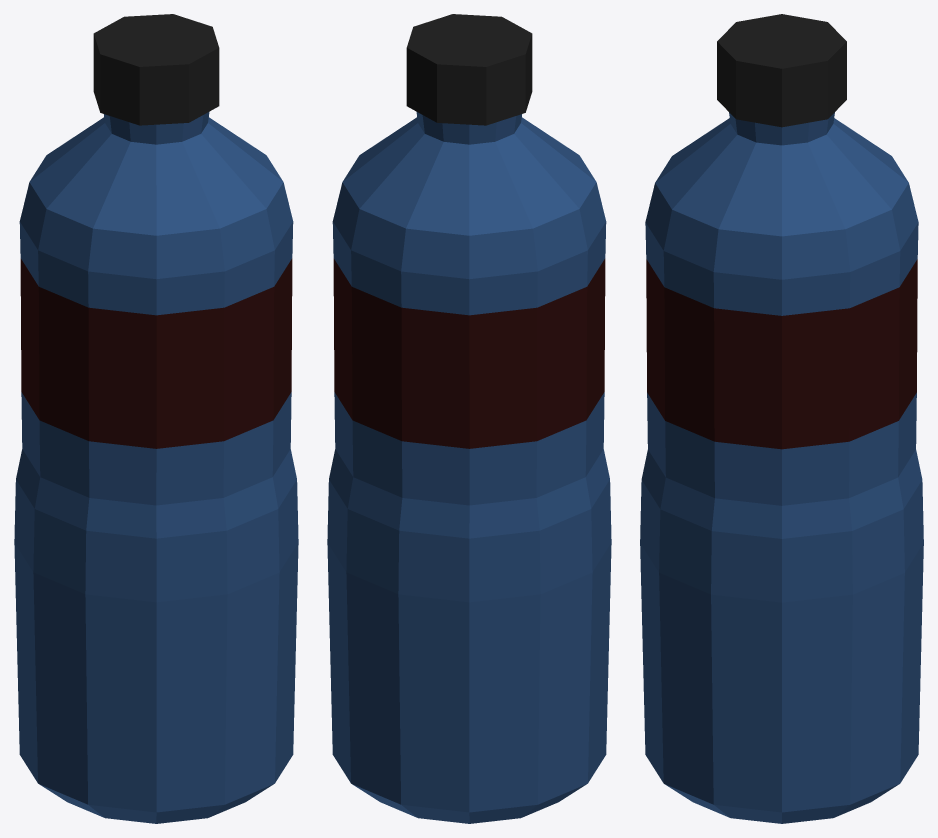
The model's file is waterbottle.obj.
3 renders of one model, left to right at view 1: azimuth 30°, elevation 25°; view 2: azimuth 150°, elevation 25°; view 3: azimuth 270°, elevation 25°, orthographic.
Visible parts, largest first — view 1: waterbottle; view 2: waterbottle; view 3: waterbottle.
Part boxes in pixels (<box>): waterbottle: <box>14,14,298,823</box>; waterbottle: <box>327,14,611,823</box>; waterbottle: <box>640,14,923,823</box>.
Bounding box in the file's own units: 0.4995 × 1.44 × 0.4995.
